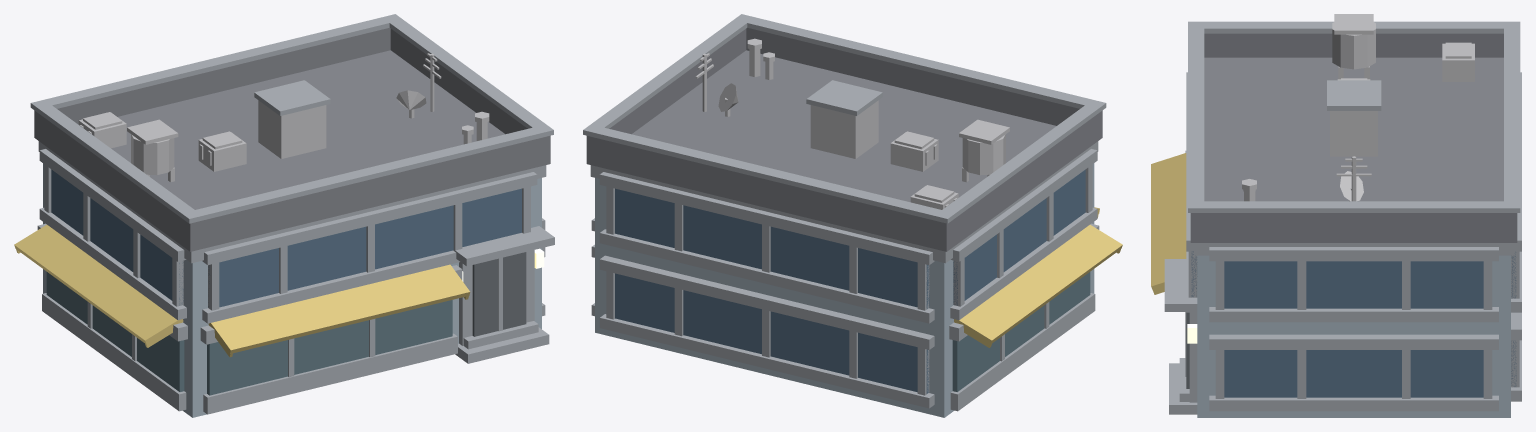
The model's file is bld_3_1.glb.
The picture shows the model from 3 angles, left to right: view 1: azimuth 30°, elevation 25°; view 2: azimuth 150°, elevation 25°; view 3: azimuth 270°, elevation 25°; orthographic projection. The views are drawn at different scales.
Visible parts, largest first — view 1: trim, rf, win, awn, shop, ac, w, door; view 2: trim, rf, win, w, ac, awn, shop; view 3: rf, trim, win, w, ac, awn.
Boxes of the visible parts, x1,y1,x2,y2 form: trim: (30,14,554,414); rf: (34,27,550,251); win: (51,169,521,307); awn: (14,225,470,357); shop: (46,272,452,395); ac: (78,53,489,182); w: (43,163,541,417); door: (472,252,526,336); trim: (583,14,1106,411); rf: (586,27,1102,251); win: (615,169,1085,393); w: (595,163,1094,417); ac: (695,38,1009,209); awn: (954,207,1122,347); shop: (952,272,1090,391); rf: (1190,33,1517,242); trim: (1164,21,1521,414); win: (1191,251,1516,397); w: (1197,255,1510,417); ac: (1242,14,1474,201); awn: (1151,153,1186,294).
Bounding box in the file's own units: 4.4 × 2.46 × 3.4.
